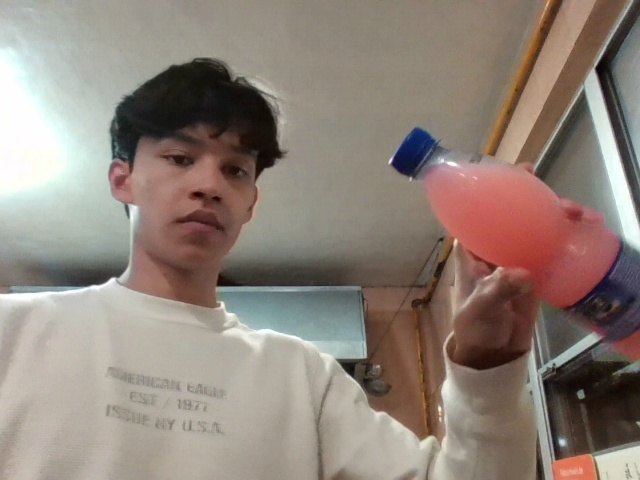botella: (369, 115, 640, 384)
